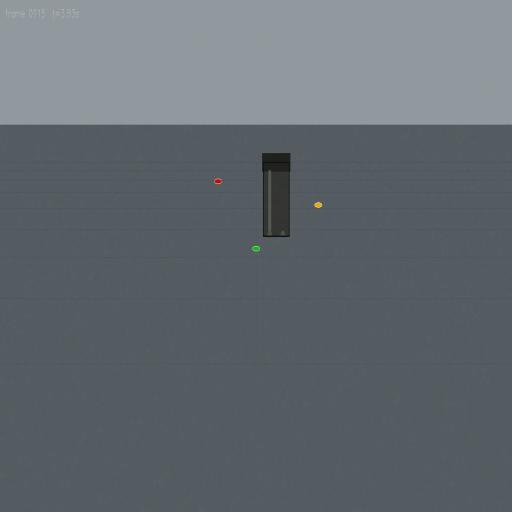bin: (262, 152, 291, 238)
